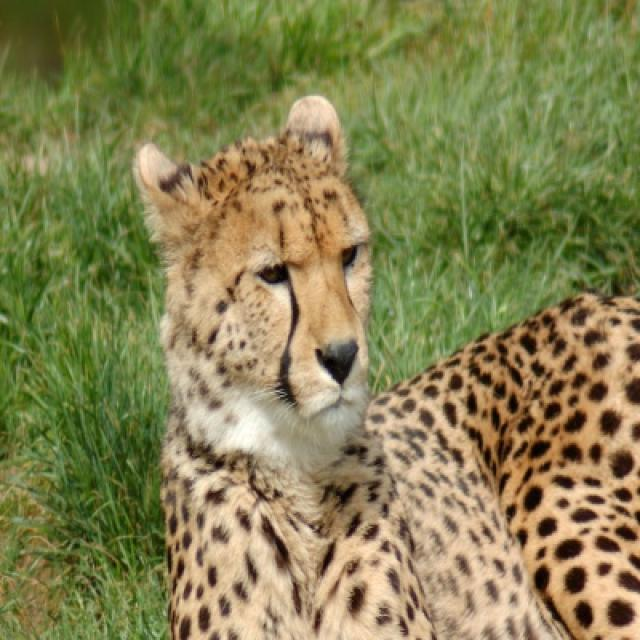Cheetah: (132, 98, 637, 638)
